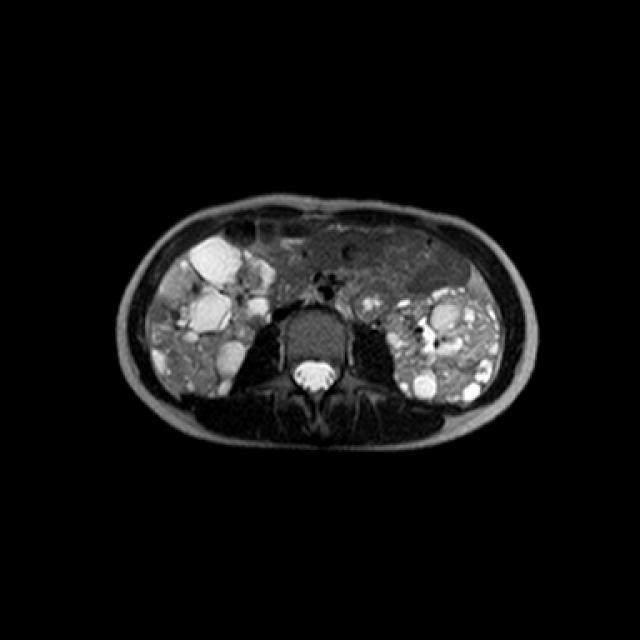sag: (150, 237, 274, 395)
sol: (387, 288, 500, 402)
